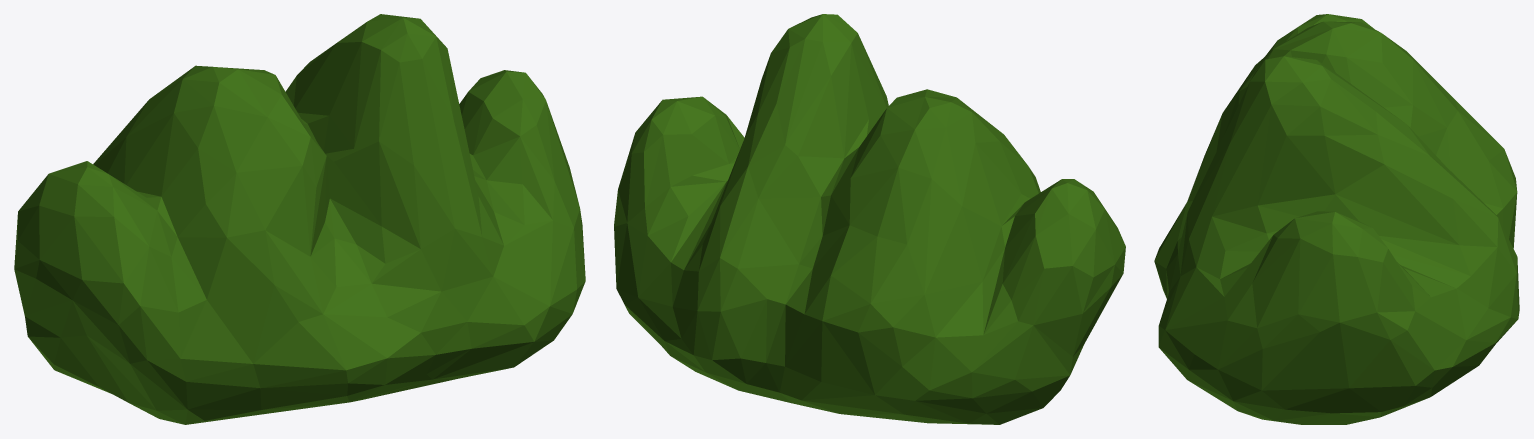
Rendered from Bush_03.fbx.
3 views of the same model, side by side, from view 1: azimuth 30°, elevation 25°; view 2: azimuth 150°, elevation 25°; view 3: azimuth 270°, elevation 25° (orthographic). The views are drawn at different scales.
Visible parts, largest first — view 1: Bush_03; view 2: Bush_03; view 3: Bush_03.
Part boxes in pixels (left/top/right/bottom): Bush_03: left=14, top=14, right=585, bottom=424; Bush_03: left=614, top=14, right=1125, bottom=424; Bush_03: left=1154, top=14, right=1519, bottom=424.
Bounding box in the file's own units: 177 × 118 × 117.
